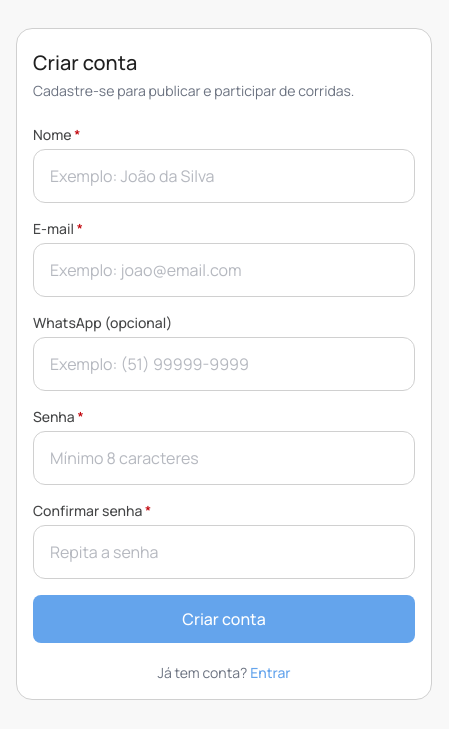
Test: SignUp › shows the duplicate-email error returned by the backend
The image size is (449, 729).
Type "Ana Souza" into the field labelled "Nome *" at (224, 176), box [33,149,415,203]
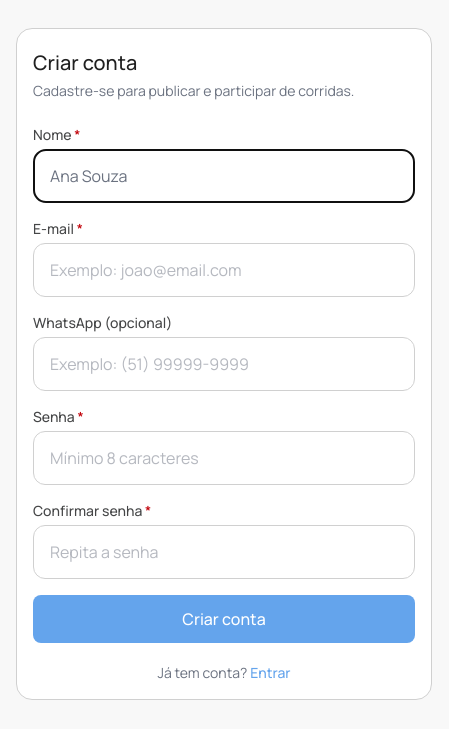
Type "ana@example.com" into the field labelled "E-mail *" at (224, 270), box [33,243,415,297]
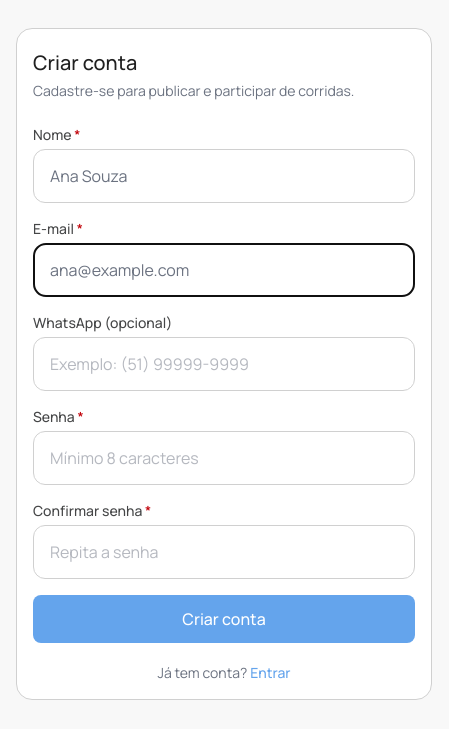
Type "password123" into the password field labelled "Senha *" at (224, 458), box [33,431,415,485]
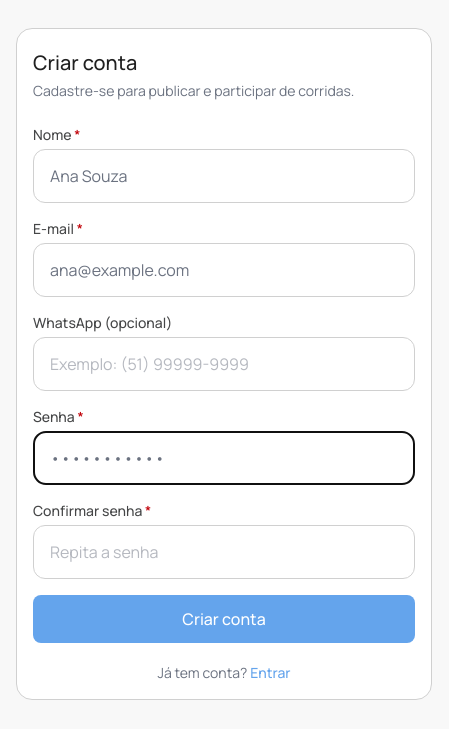
Type "password123" into the password field labelled "Confirmar senha *" at (224, 552), box [33,525,415,579]
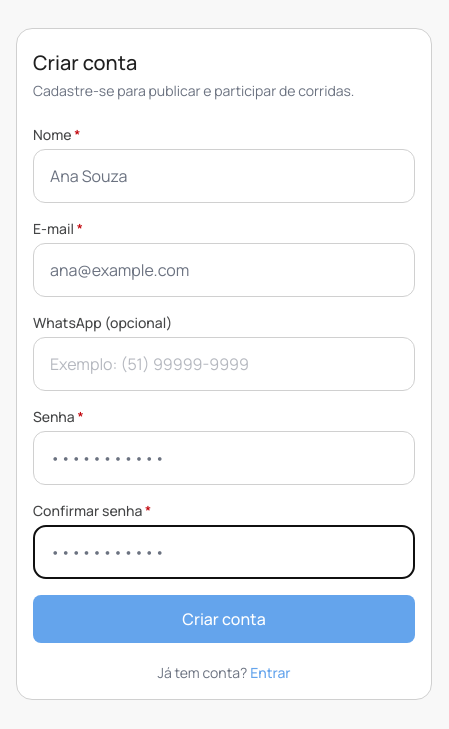
Click the button "Criar conta" at (224, 619), box [33,595,415,643]
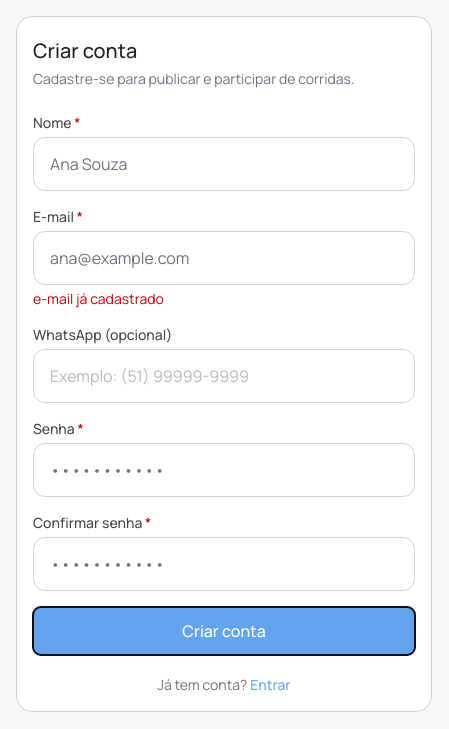
Result: the text "e-mail já cadastrado" is shown at [33,289,164,308]
